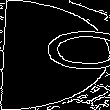O_W: (3, 32, 107, 78)
